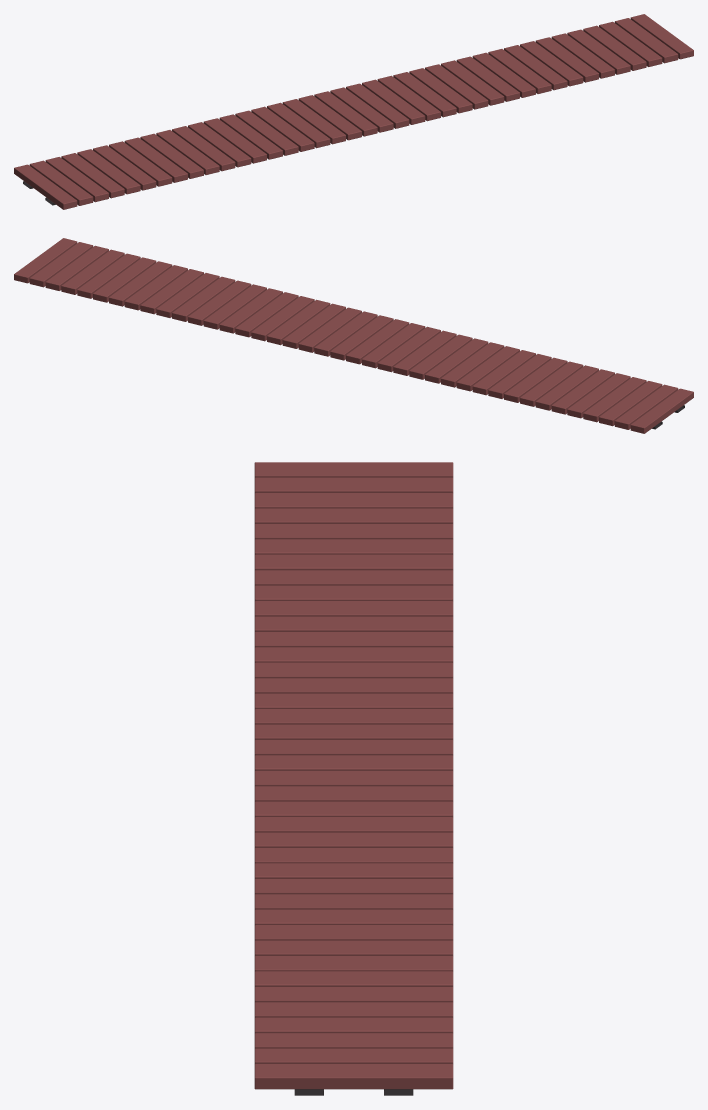
The model's file is Conveyor.fbx.
3 views of the same model, one above another, from view 1: azimuth 30°, elevation 25°; view 2: azimuth 150°, elevation 25°; view 3: azimuth 270°, elevation 25° (orthographic). The views are drawn at different scales.
Parts seen in each view (by area): view 1: Test; view 2: Test; view 3: Test.
Boxes of the visible parts, left/top/right/bottom form: Test: left=14, top=14, right=693, bottom=209; Test: left=14, top=238, right=693, bottom=433; Test: left=254, top=462, right=453, bottom=1095.
Bounding box in the file's own units: 22.05 × 3 × 0.2901.
